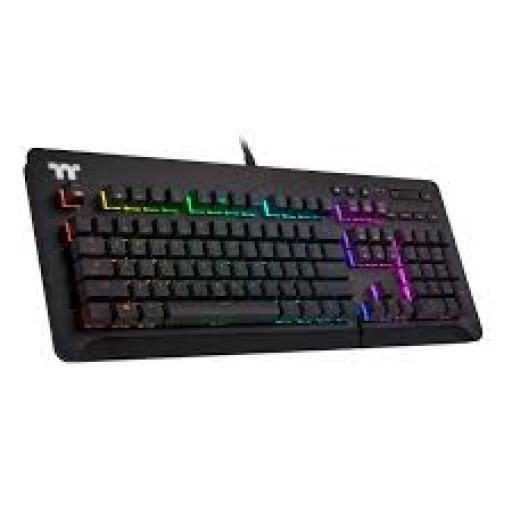keyboard: (27, 148, 480, 360)
